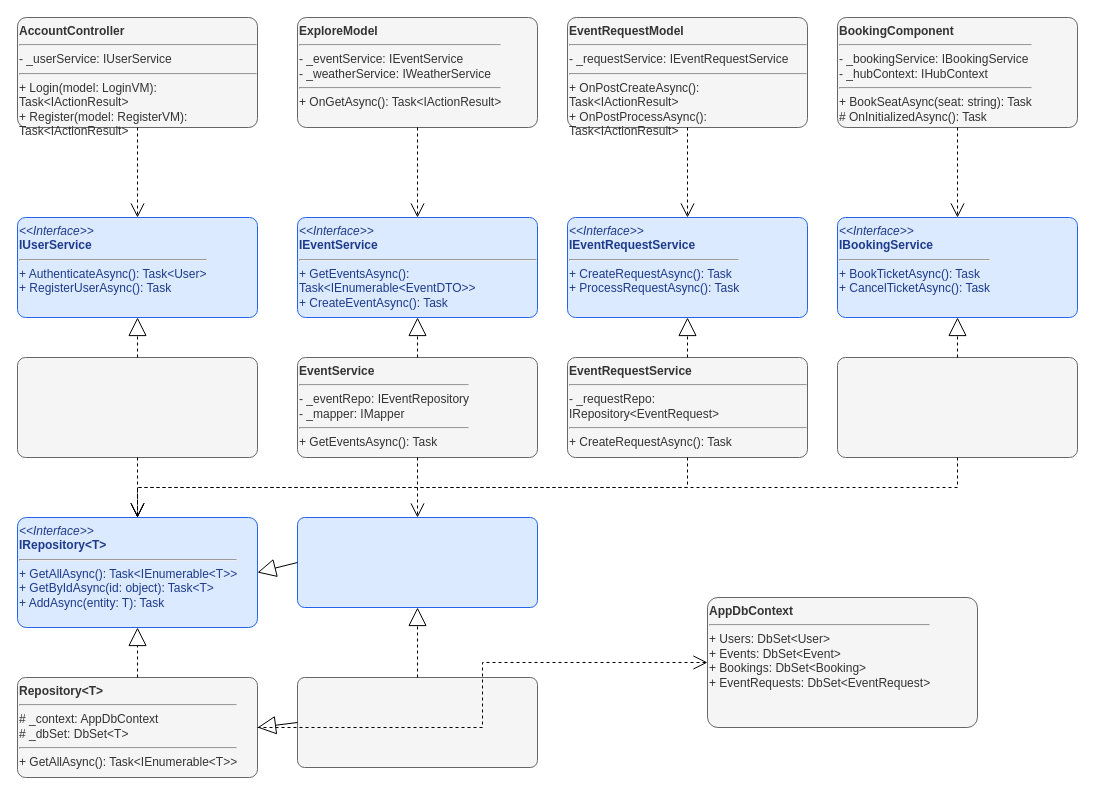
Image size: 1095x795. Some labels were removed from this diagram. Here are the shapes that lost their labels. From the top down, the box of each, then its label:
(16, 356, 258, 458): UserService - _userRepo: IRepository<User> + AuthenticateAsync(): Task<User>
(836, 356, 1078, 458): BookingService - _bookingRepo: IRepository<Booking> + BookTicketAsync(): Task
(296, 516, 538, 608): <<Interface>> IEventRepository + BuildSearchQuery(): IQueryable<Event>
(296, 676, 538, 768): EventRepository + BuildSearchQuery(): IQueryable<Event>
